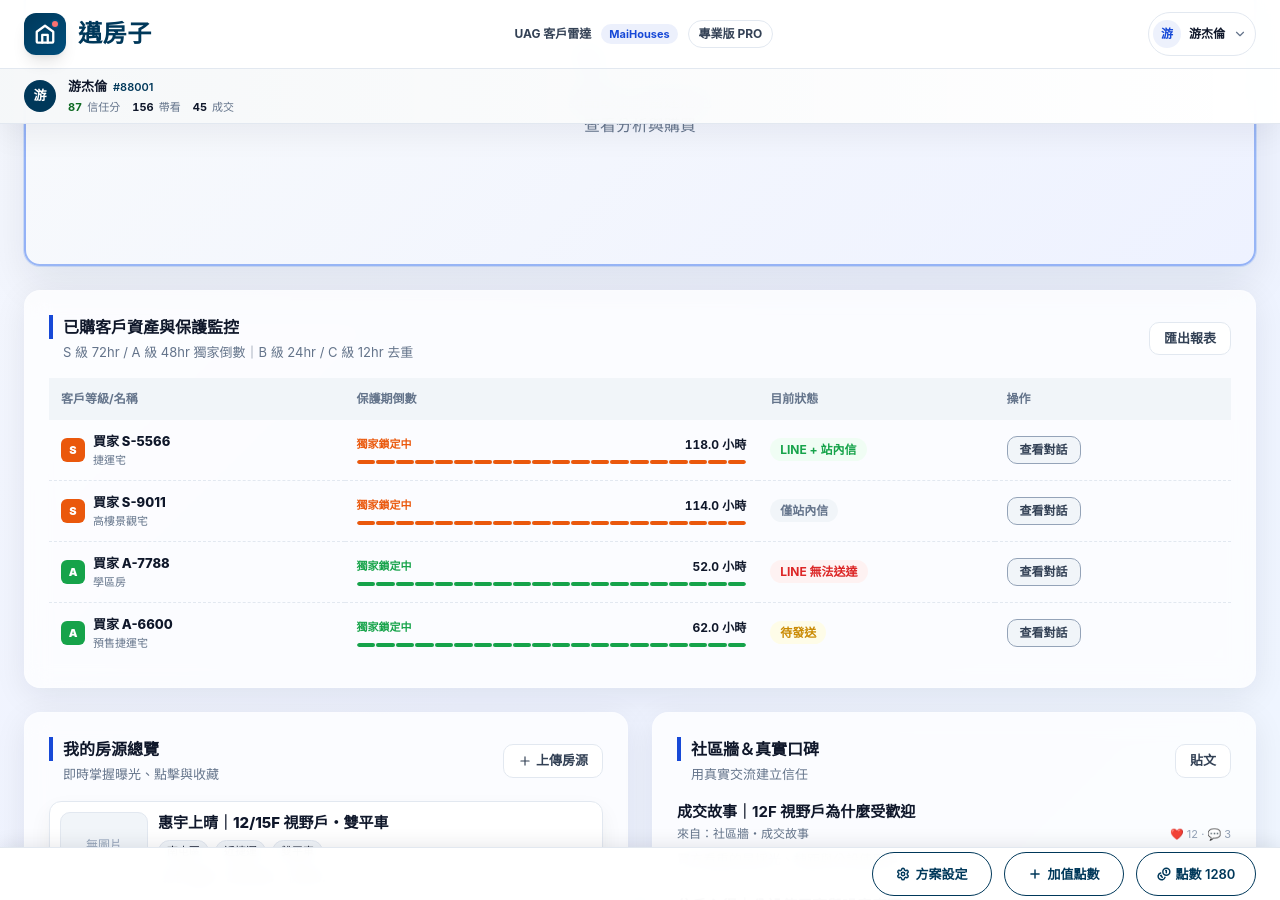
Test case: UAGPage › #24a demo 模式點擊「查看對話」應開啟 MockChatModal 且不導頁
This screenshot has width=1280, height=900.
(page scrolled)
Step 1. Click the button "查看對話" in the row of "買家 S-5566" → x=1044, y=450, box [1007,436,1081,464]
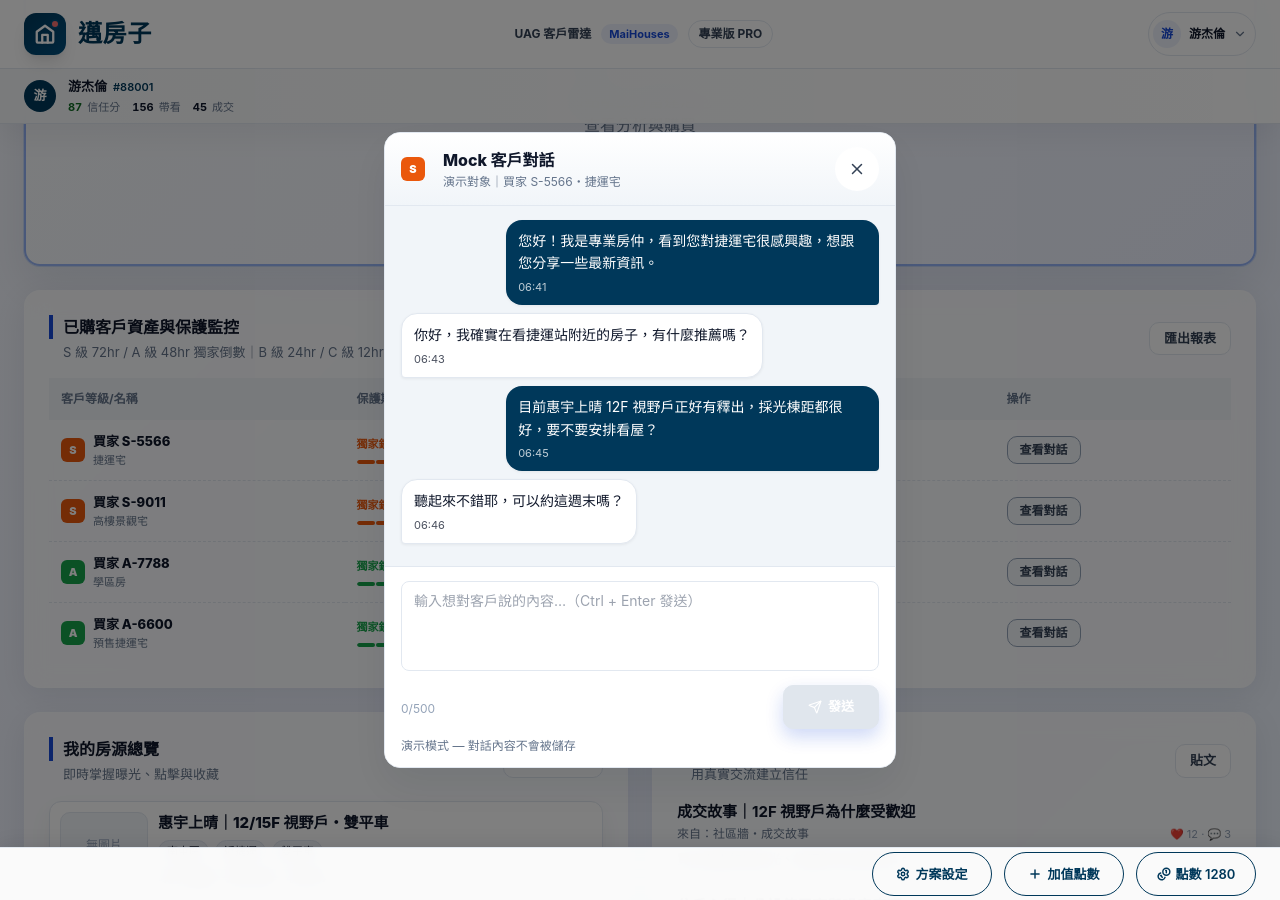
Expected: the dialog "Mock 客戶對話" is shown, [384,132,896,768]
Step 2. Click the button named "關閉對話" → x=857, y=169, box [835,147,879,191]
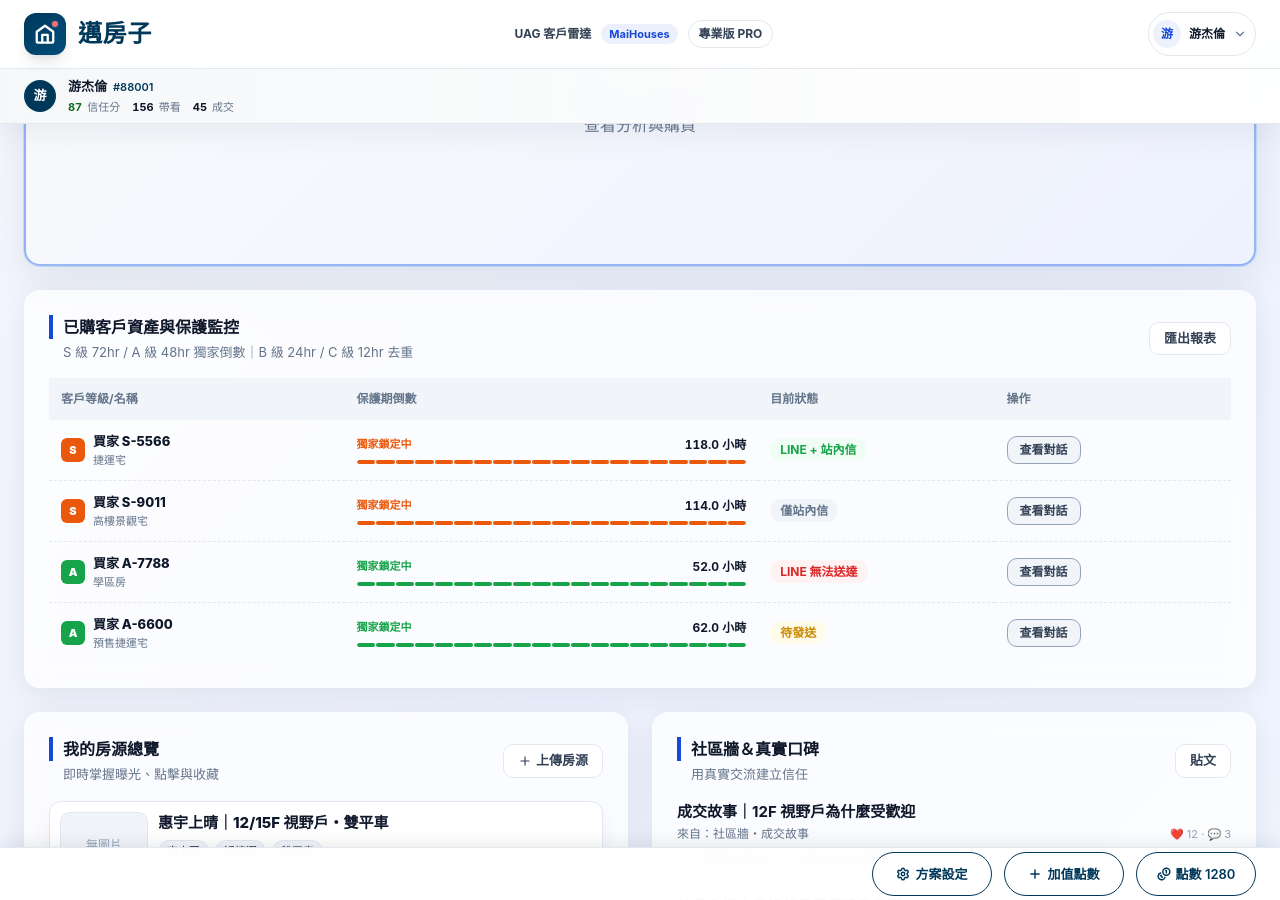
Expected: the heading "Mock 客戶對話" is gone
